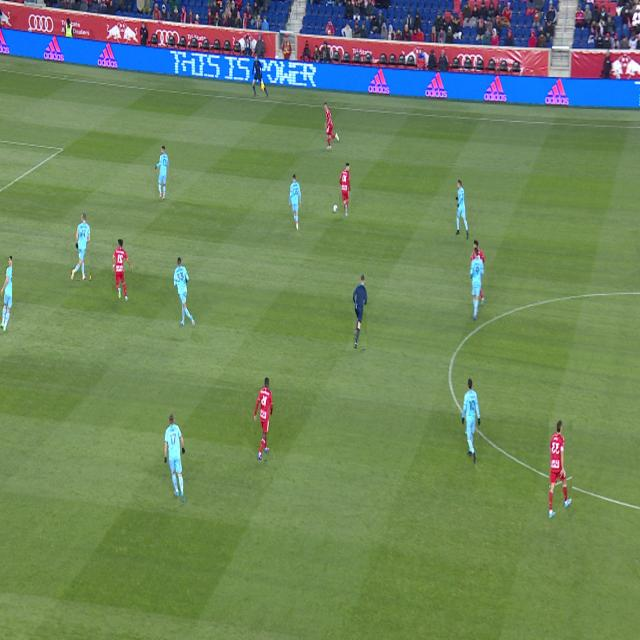football: (333, 204, 338, 213)
player: (549, 420, 572, 519), (164, 413, 185, 505), (254, 378, 273, 460), (462, 378, 480, 464), (174, 257, 195, 326), (72, 213, 90, 280), (113, 239, 132, 301), (470, 247, 484, 321), (0, 256, 12, 332), (471, 240, 485, 305), (456, 180, 469, 240), (155, 147, 169, 200), (324, 103, 339, 150), (289, 174, 301, 230), (339, 164, 351, 217)
referee: (353, 275, 367, 349)
